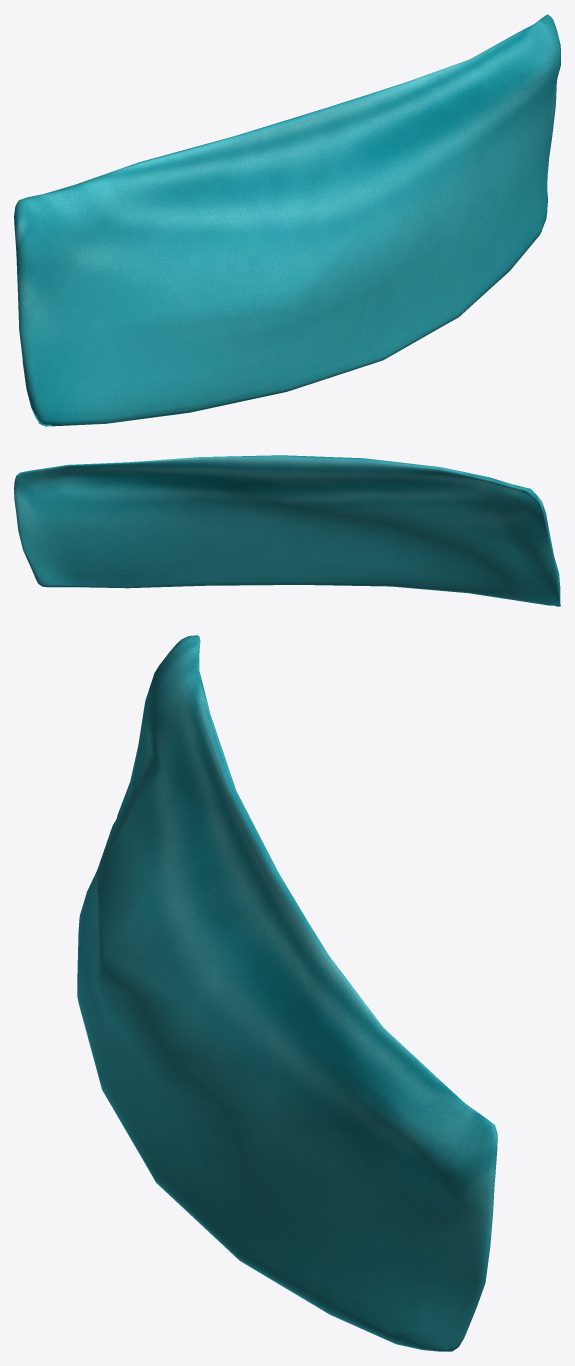
Rendered from pocket_square.glb.
3 renders of one model, top to bottom at view 1: azimuth 30°, elevation 25°; view 2: azimuth 150°, elevation 25°; view 3: azimuth 270°, elevation 25°, orthographic. The views are drawn at different scales.
Parts seen in each view (by area): view 1: Plane.001; view 2: Plane.001; view 3: Plane.001.
Boxes of the visible parts, x1,y1,x2,y2 form: Plane.001: (14, 14, 560, 426); Plane.001: (14, 455, 560, 606); Plane.001: (77, 635, 497, 1351).
Size of the model in its own units: 6.03 by 2.11 by 2.42.
1 material, 1 textured.
